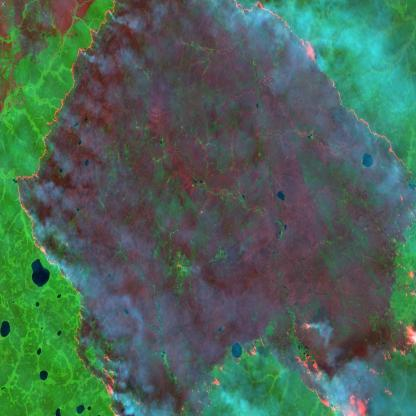fire: (7, 0, 121, 416), (226, 0, 416, 187), (277, 238, 416, 415)
